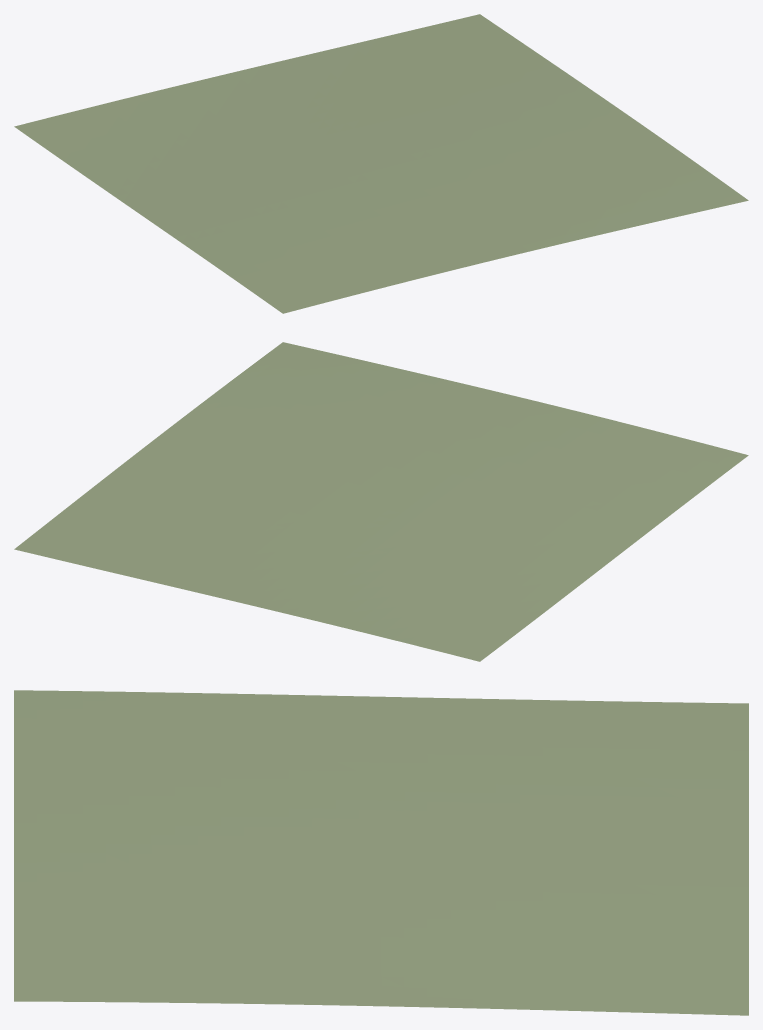
File: expanse-0-13.glb
3 renders of one model, top to bottom at view 1: azimuth 30°, elevation 25°; view 2: azimuth 150°, elevation 25°; view 3: azimuth 270°, elevation 25°, orthographic. The views are drawn at different scales.
Visible parts, largest first — view 1: expanse-0-13; view 2: expanse-0-13; view 3: expanse-0-13.
Boxes of the visible parts, x1,y1,x2,y2 form: expanse-0-13: [14, 14, 748, 313]; expanse-0-13: [14, 342, 748, 661]; expanse-0-13: [14, 690, 748, 1015].
Bounding box in the file's own units: 256 × 6.88 × 256.
